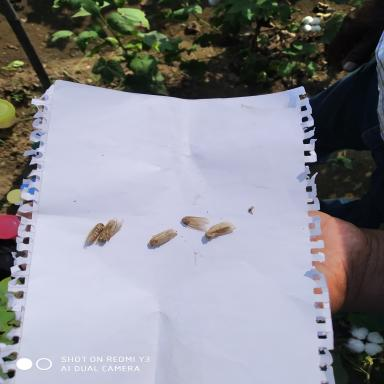abw: (94, 216, 125, 246), (146, 224, 177, 250), (205, 219, 238, 241), (82, 220, 104, 250), (180, 214, 210, 232)
